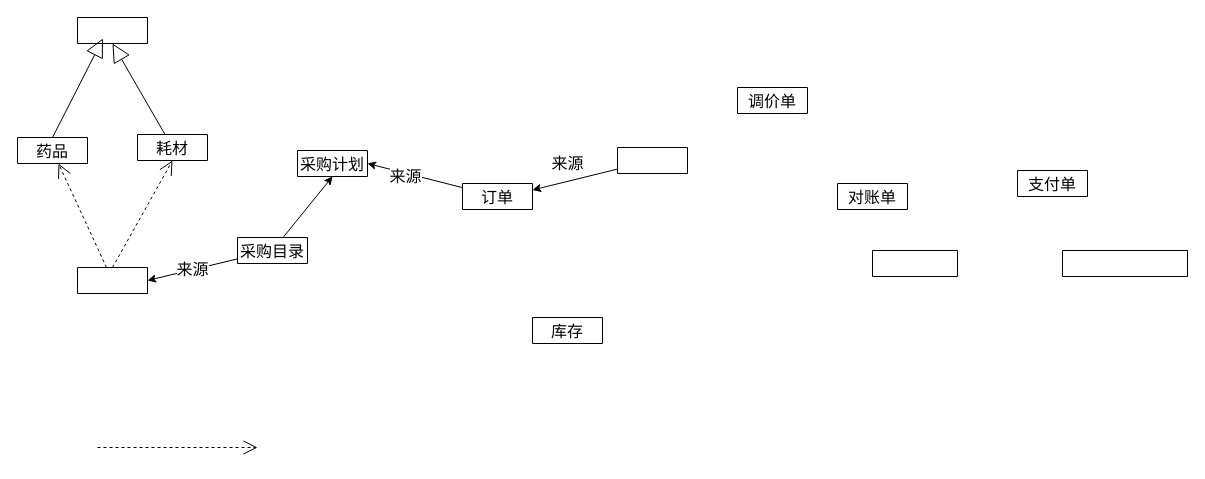
Image size: 1205x479. Some labels were removed from this diagram. Each missing label, with the centre of its shape:
"分批支付明细单" goes at pixel 1125 263.
"发货单" goes at pixel 652 160.
"商品" goes at pixel 112 30.
"汇总结算单" goes at pixel 915 263.
"院内目录" goes at pixel 112 280.
